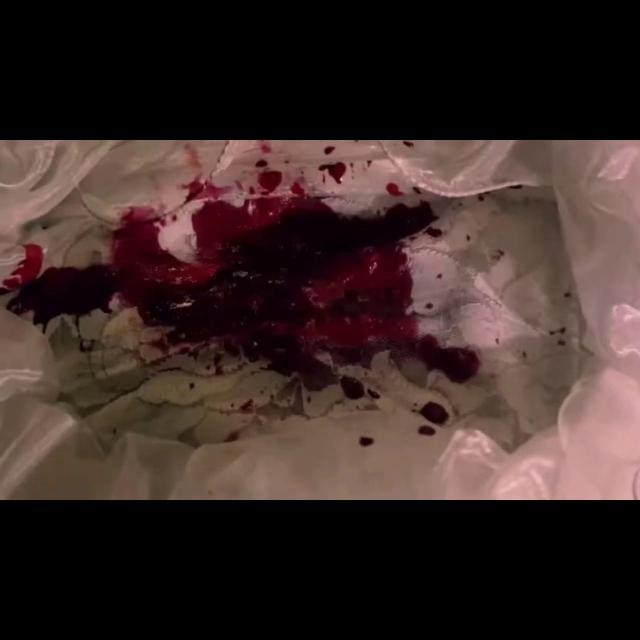blood: (0, 140, 589, 497)
